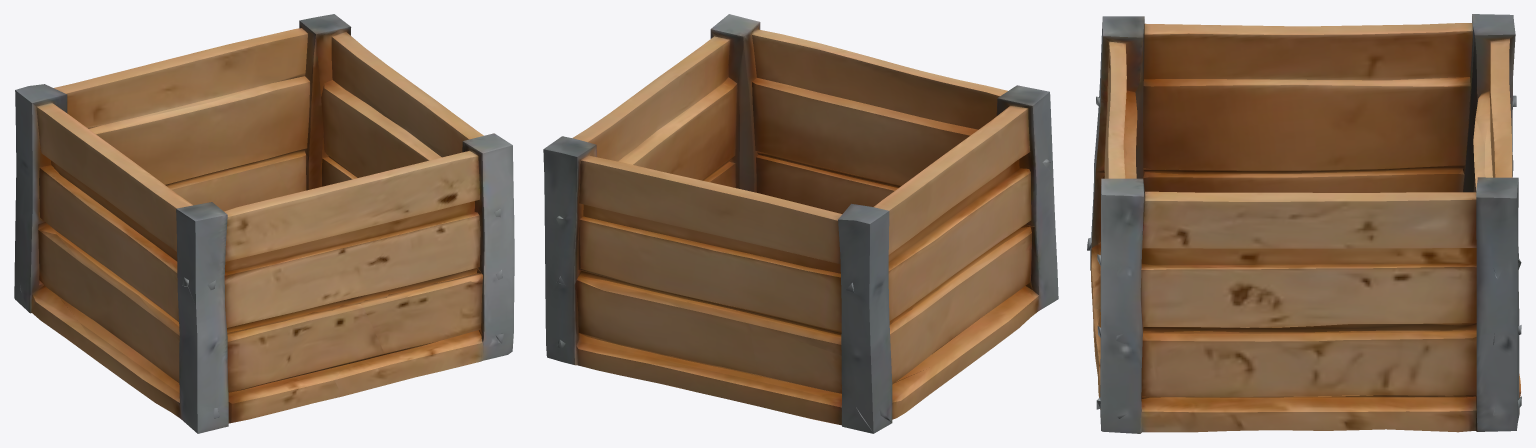
The model's file is m2FlyingCrate.glb.
3 renders of one model, left to right at view 1: azimuth 30°, elevation 25°; view 2: azimuth 150°, elevation 25°; view 3: azimuth 270°, elevation 25°, orthographic. The views are drawn at different scales.
Visible parts, largest first — view 1: model; view 2: model; view 3: model.
Boxes of the visible parts, x1,y1,x2,y2 form: model: (14,14,514,433); model: (543,14,1058,433); model: (1087,14,1521,433).
Bounding box in the file's own units: 1.89 × 1.16 × 1.89.
Materials: 1 (1 with a texture image).
